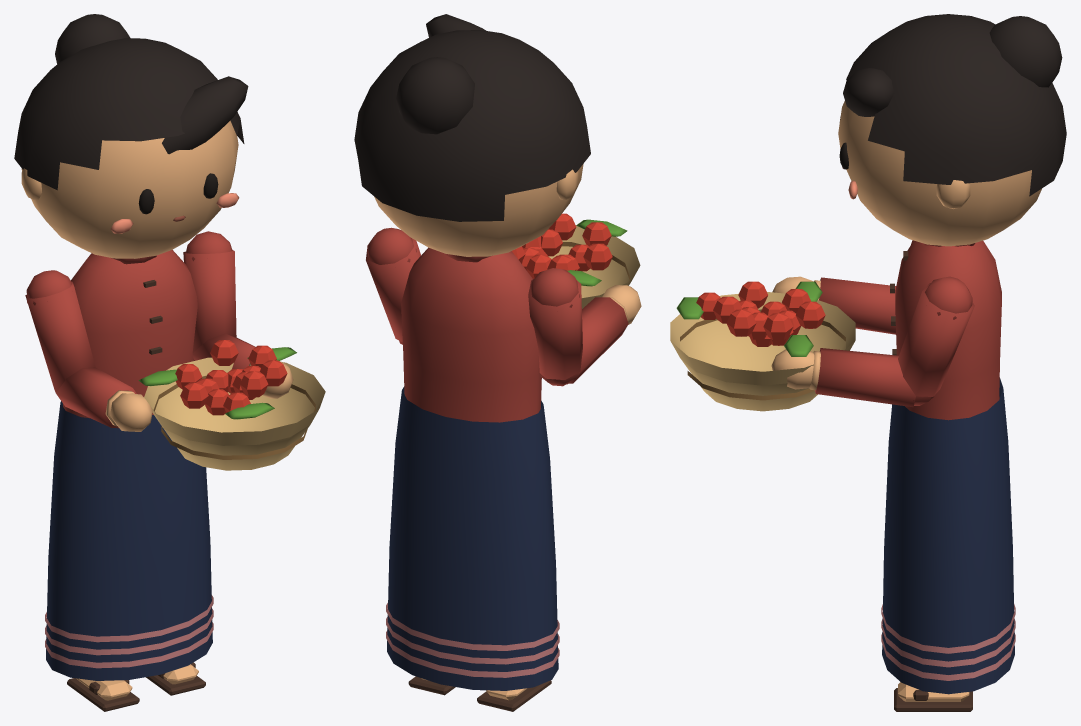
File: east_rambutan_woman.glb
3 views of the same model, side by side, from view 1: azimuth 30°, elevation 25°; view 2: azimuth 150°, elevation 25°; view 3: azimuth 270°, elevation 25° (orthographic). The views are drawn at different scales.
Visible parts, largest first — view 1: body, head, prop_rambutan_basket, arm_R, arm_L, forearm_R, shin_R, forearm_L, shin_L; view 2: body, head, prop_rambutan_basket, arm_R, arm_L, forearm_R, shin_R, shin_L; view 3: body, head, prop_rambutan_basket, arm_L, forearm_L, forearm_R, shin_L.
Boxes of the visible parts, bbox=[...] form: body: bbox=[45, 250, 213, 680]; head: bbox=[14, 14, 248, 258]; prop_rambutan_basket: bbox=[138, 340, 325, 470]; arm_R: bbox=[25, 270, 95, 399]; arm_L: bbox=[183, 231, 236, 360]; forearm_R: bbox=[56, 367, 152, 431]; shin_R: bbox=[67, 678, 139, 711]; forearm_L: bbox=[192, 333, 293, 398]; shin_L: bbox=[146, 662, 205, 695]; body: bbox=[386, 247, 559, 690]; head: bbox=[354, 14, 590, 256]; prop_rambutan_basket: bbox=[512, 213, 640, 308]; arm_R: bbox=[528, 268, 582, 386]; arm_L: bbox=[366, 227, 420, 344]; forearm_R: bbox=[540, 285, 641, 384]; shin_R: bbox=[477, 680, 551, 711]; shin_L: bbox=[408, 676, 455, 695]; body: bbox=[881, 240, 1015, 694]; head: bbox=[838, 14, 1066, 246]; prop_rambutan_basket: bbox=[670, 281, 855, 411]; arm_L: bbox=[898, 276, 974, 405]; forearm_L: bbox=[771, 348, 933, 407]; forearm_R: bbox=[772, 276, 896, 334]; shin_L: bbox=[894, 682, 972, 711].
Bounding box in the file's own units: 0.4938 × 1.47 × 0.7924.
